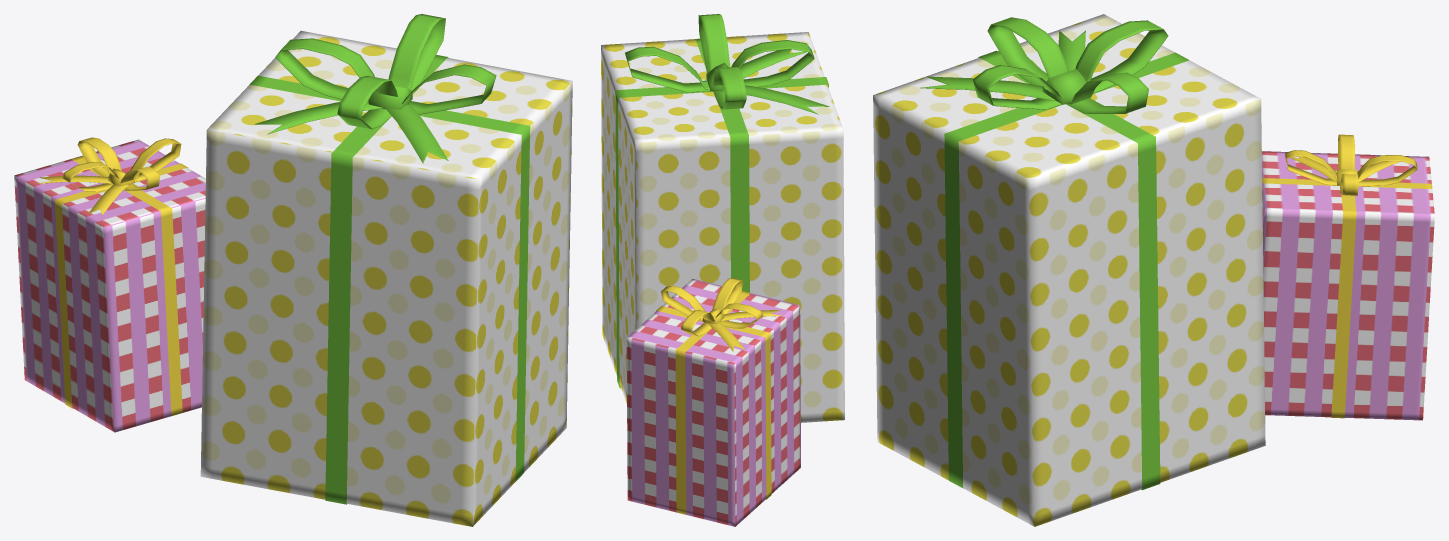
File: Paket_7.glb
The picture shows the model from 3 angles, left to right: view 1: azimuth 30°, elevation 25°; view 2: azimuth 150°, elevation 25°; view 3: azimuth 270°, elevation 25°; orthographic projection. The views are drawn at different scales.
Visible parts, largest first — view 1: Paket.008; view 2: Paket.008; view 3: Paket.008.
Part boxes in pixels (bbox=[...]): Paket.008: bbox=[14, 14, 572, 526]; Paket.008: bbox=[601, 14, 844, 526]; Paket.008: bbox=[873, 14, 1434, 526].
Bounding box in the file's own units: 1.03 × 1.11 × 1.39.
4 materials, 2 textured.
